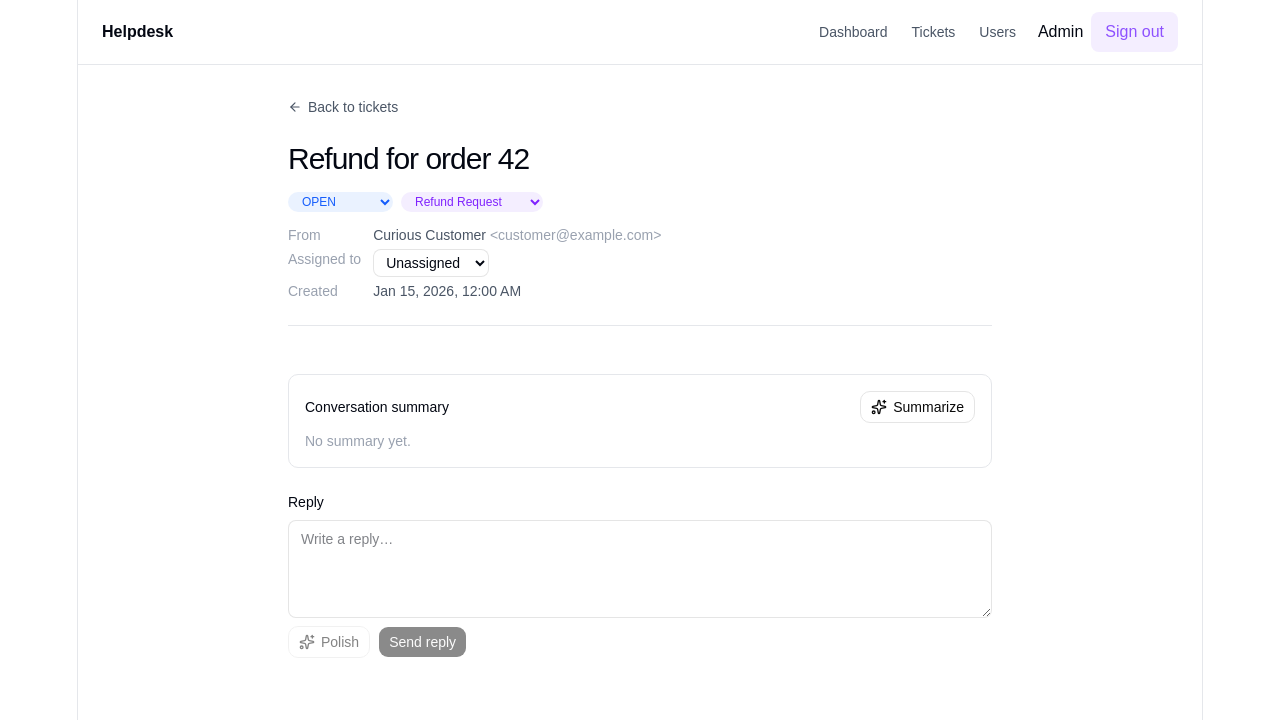
Scenario: TicketDetailPage › replaces the draft with the polished text on success
expect the heading "Refund for order 42" is shown: met, box [288,142,529,175]
In the text box labelled "Reply": (640, 569) [288,520,992,618], type "thx for waiting we lookin into it"
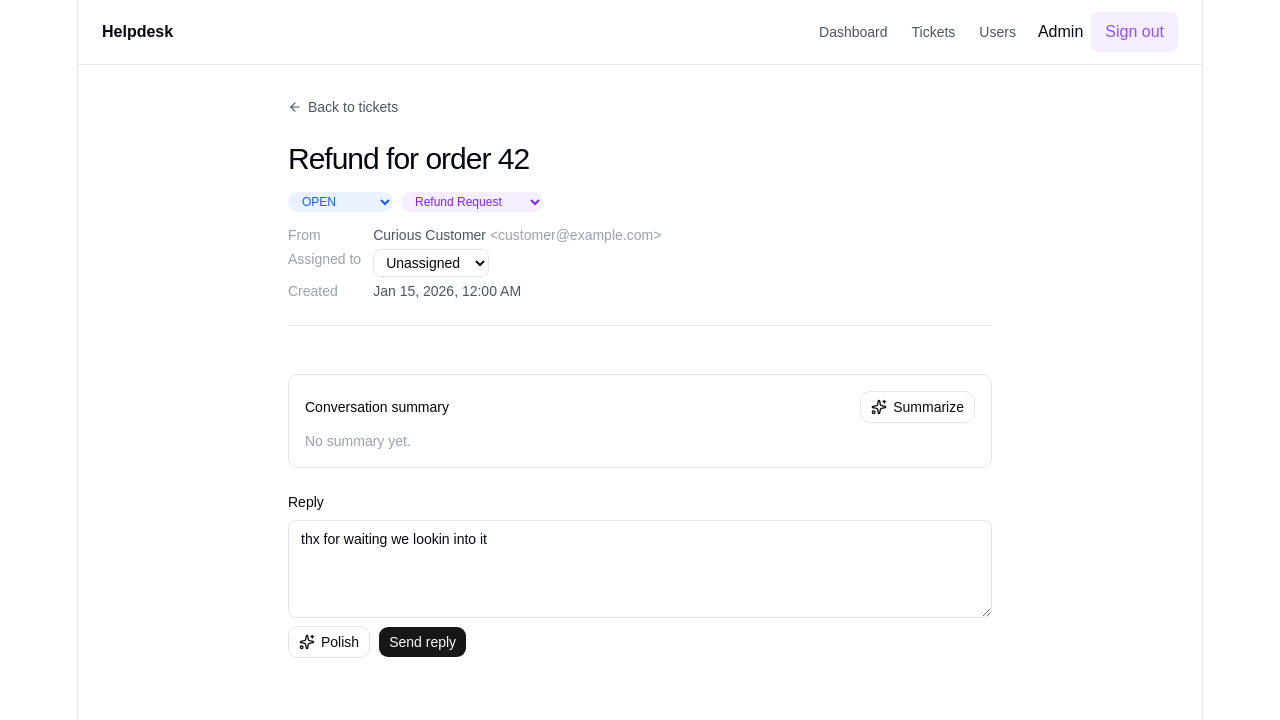
Click the button "Polish": (329, 642) [288,626,370,658]
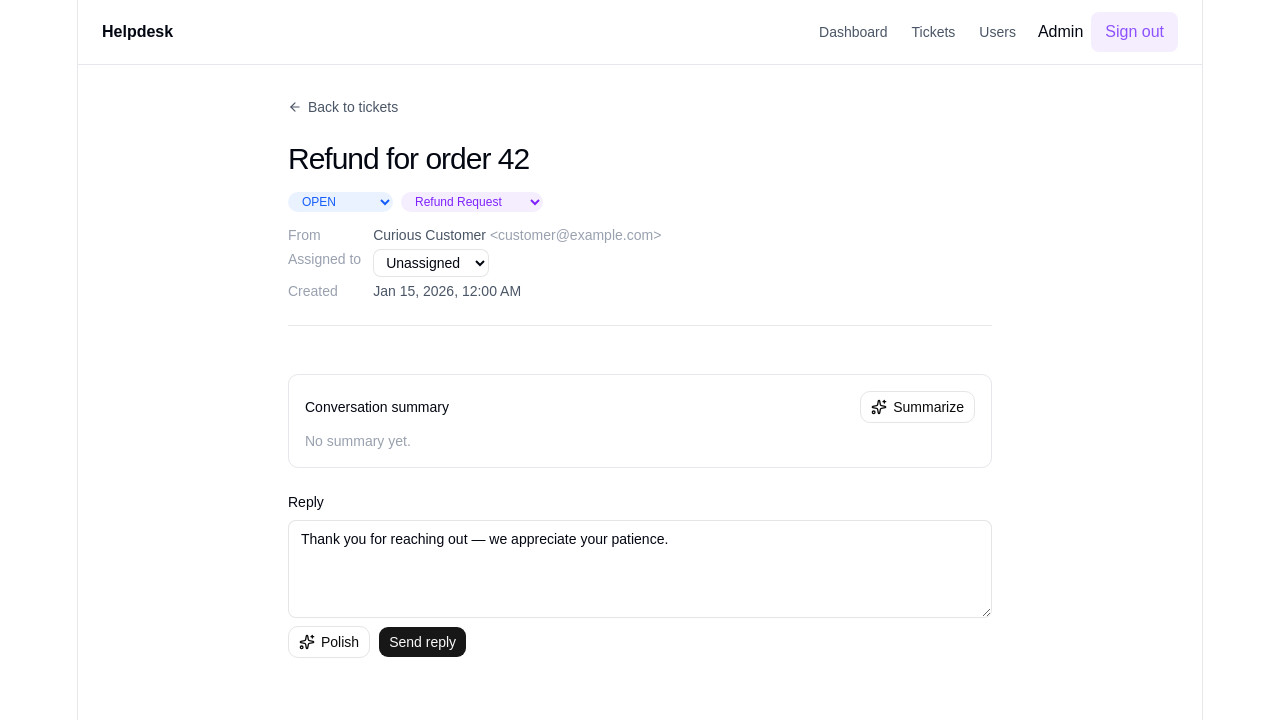
expect the text box labelled "Reply" holds "Thank you for reaching out — we appreciate your patience.": met, box [288,520,992,618]
